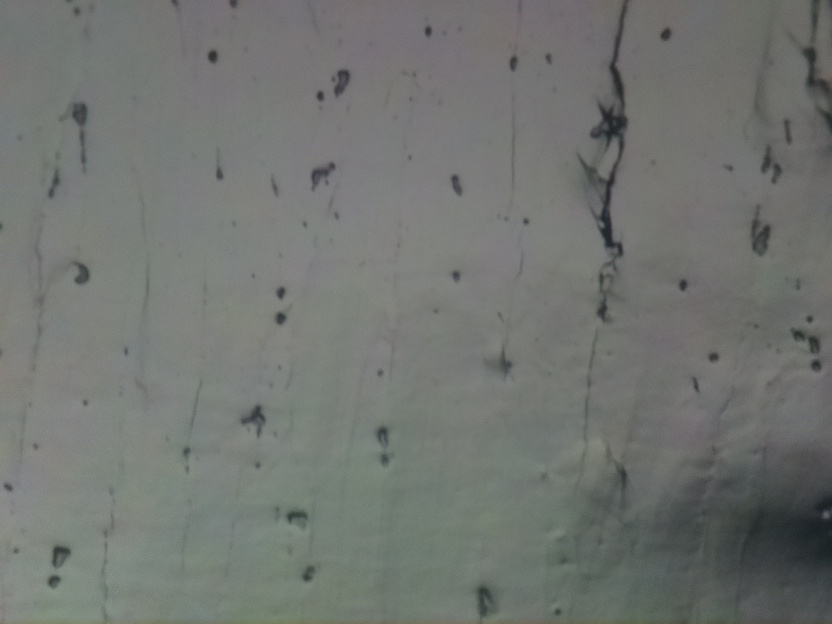crack: (577, 0, 630, 282)
